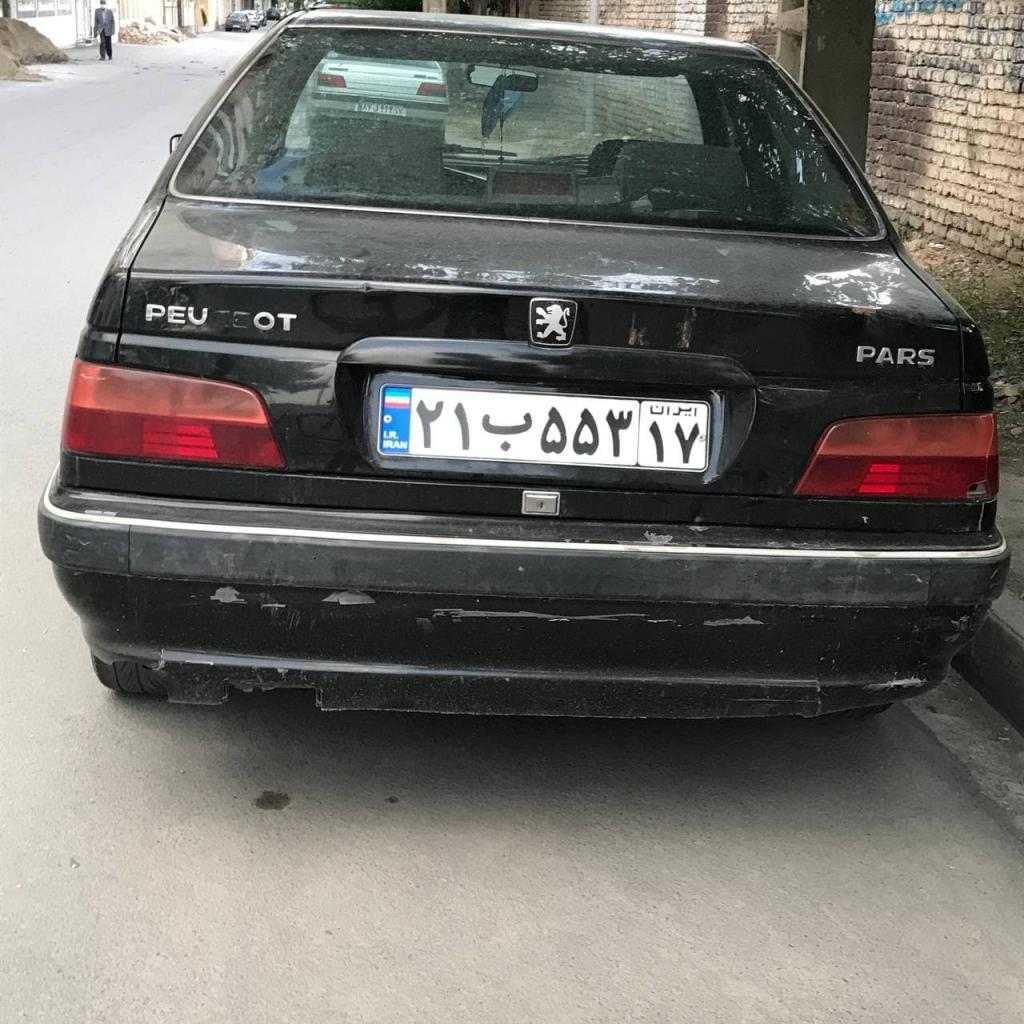Plates: (379, 385, 709, 470)
